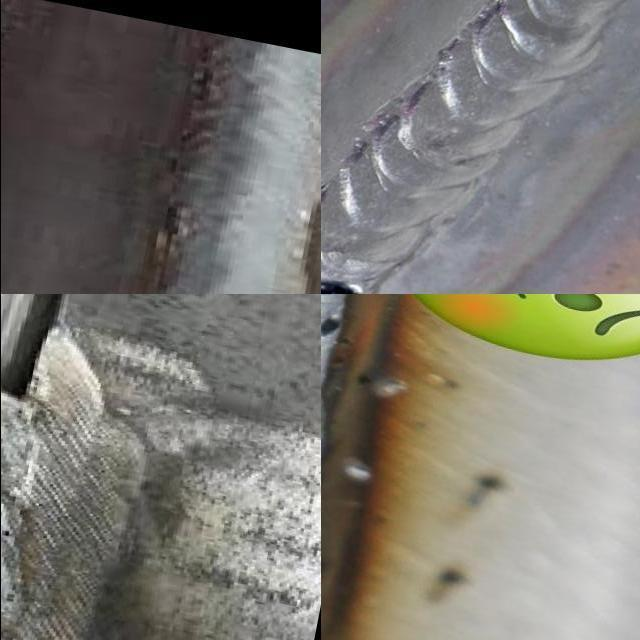defect: (320, 315, 346, 340)
